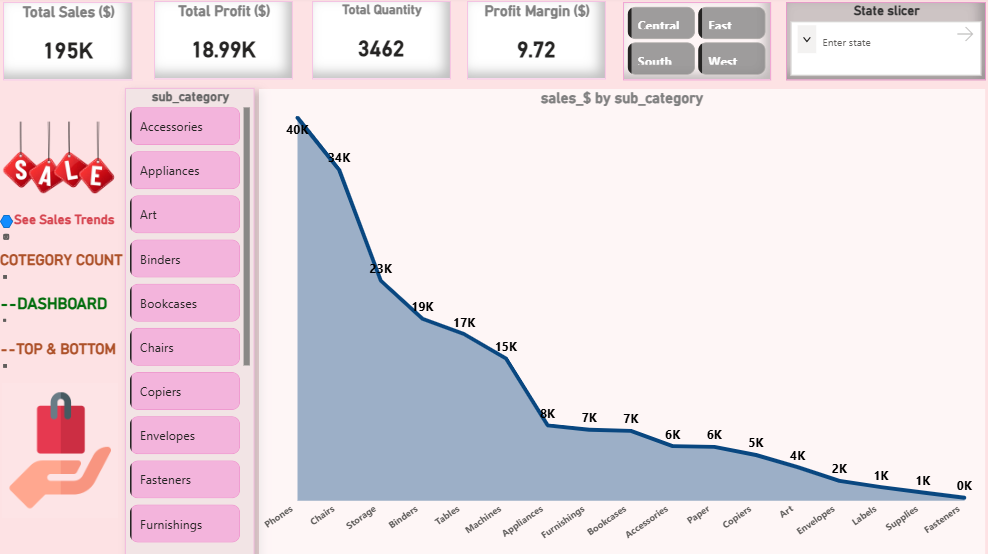

Layout of this report page (visuals, bound fields, positions):
{"tool":"powerbi","page":{"name":"trends","canvas":[1280,720],"ordinal":1},"visuals":[{"type":"card","title":"Profit Margin ($)","fields":{"Values":["Big_Market_Sales_DATA module 6.Profit Margin %"]},"box":[610.9,2.4,178.6,100.6],"z":0},{"type":"card","title":"Total Quantity","fields":{"Values":["Sum(Big_Market_Sales_DATA module 6.quantity)"]},"box":[409.6,2.4,178.6,100.6],"z":1000},{"type":"card","title":"Total Profit ($)","fields":{"Values":["Sum(Big_Market_Sales_DATA module 6.profit_$)"]},"box":[207,2.4,178.6,100.6],"z":2000},{"type":"card","title":"Total Sales ($)","fields":{"Values":["Sum(Big_Market_Sales_DATA module 6.sales_$)"]},"box":[11.3,2.8,167.2,100.6],"z":3000},{"type":"advancedSlicerVisual","fields":{"Values":["Big_Market_Sales_DATA module 6.region"]},"box":[812.1,2.8,191.3,100.6],"z":4000},{"type":"textSlicer","title":"State slicer ","fields":{"Values":["Big_Market_Sales_DATA module 6.state"]},"box":[1021.9,2.8,258,100.6],"z":5000},{"type":"advancedSlicerVisual","fields":{"Values":["Big_Market_Sales_DATA module 6.sub_category"]},"box":[161.4,117.1,167.1,602.9],"z":6000},{"type":"lineChart","title":" sales_$ by sub_category","fields":{"Y":["Sum(Big_Market_Sales_DATA module 6.sales_$)"],"Category":["Big_Market_Sales_DATA module 6.sub_category"]},"box":[342.9,118.6,937.1,601.4],"z":7000},{"type":"actionButton","title":"--TOP & BOTTOM","box":[0,442.8,161.4,40],"z":8000},{"type":"actionButton","title":"--DASHBOARD","box":[0,382.8,161.4,40],"z":9000},{"type":"image","box":[0,137.1,155.7,151.4],"z":10000},{"type":"image","box":[2.9,498.6,150,174.3],"z":11000},{"type":"actionButton","title":"COTEGORY COUNT","box":[0,327.1,178.6,40],"z":12000},{"type":"actionButton","title":"--See Sales Trends","box":[0,277.4,161.3,40],"z":13000},{"type":"shape","box":[0,281.3,12.9,16.8],"z":14000}]}

Visuals, with their boxes in screenshot pixels (x1, y1, x2, y2), scaled from the page's 1280x720 canvas onto the 988x554 screenshot:
"Profit Margin ($)" card: l=472, t=2, r=609, b=79
"Total Quantity" card: l=316, t=2, r=454, b=79
"Total Profit ($)" card: l=160, t=2, r=298, b=79
"Total Sales ($)" card: l=9, t=2, r=138, b=80
advancedSlicerVisual - Big_Market_Sales_DATA module 6.region: l=627, t=2, r=774, b=80
"State slicer " textSlicer: l=789, t=2, r=987, b=80
advancedSlicerVisual - Big_Market_Sales_DATA module 6.sub_category: l=125, t=90, r=254, b=553
" sales_$ by sub_category" lineChart: l=265, t=91, r=987, b=553
"--TOP & BOTTOM" actionButton: l=0, t=341, r=125, b=371
"--DASHBOARD" actionButton: l=0, t=295, r=125, b=325
image: l=0, t=105, r=120, b=222
image: l=2, t=384, r=118, b=518
"COTEGORY COUNT" actionButton: l=0, t=252, r=138, b=282
"--See Sales Trends" actionButton: l=0, t=213, r=125, b=244
shape: l=0, t=216, r=10, b=229
